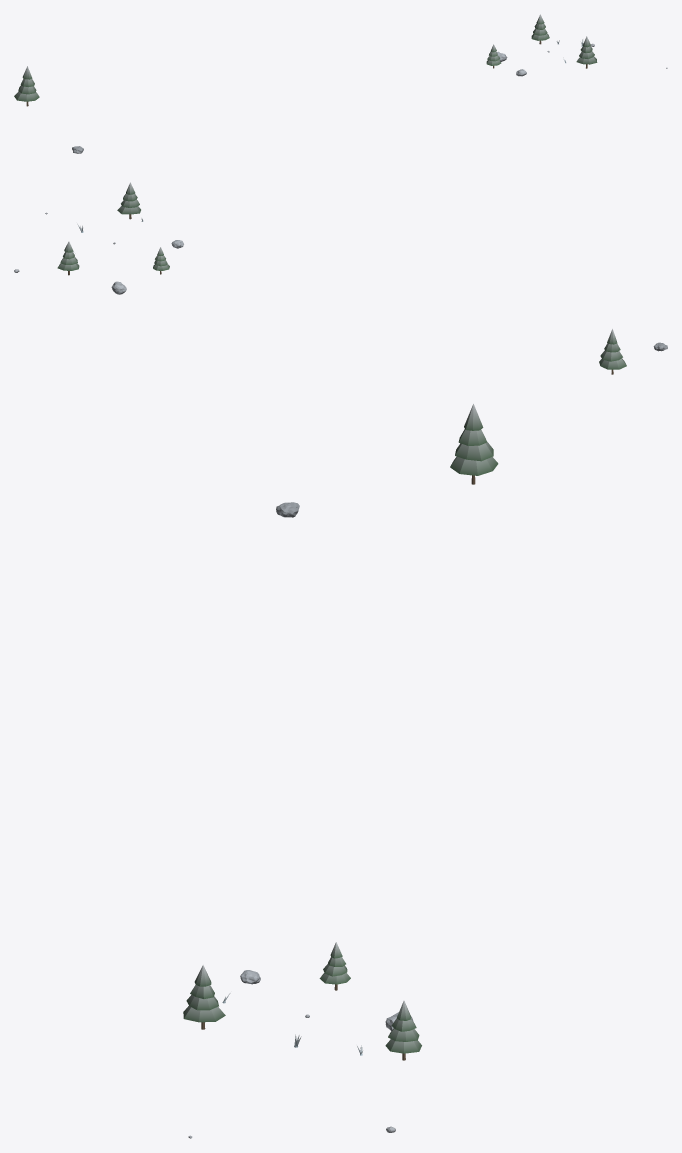
The model's file is frost_land_scatter_c22_08.glb.
3 views of the same model, one above another, from view 1: azimuth 30°, elevation 25°; view 2: azimuth 150°, elevation 25°; view 3: azimuth 270°, elevation 25° (orthographic). The views are drawn at different scales.
Visible parts, largest first — view 1: frost_land_scatter_c22_08; view 2: frost_land_scatter_c22_08; view 3: frost_land_scatter_c22_08.
Boxes of the visible parts, x1=… form: frost_land_scatter_c22_08: x1=14, y1=14, x2=667, y2=153; frost_land_scatter_c22_08: x1=14, y1=182, x2=667, y2=374; frost_land_scatter_c22_08: x1=183, y1=404, x2=498, y2=1138.
Bounding box in the file's own units: 216 × 35.01 × 50.6.
